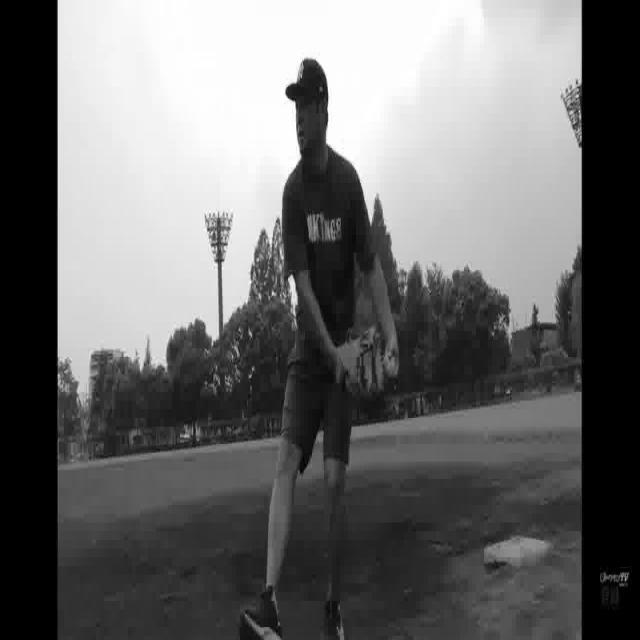base: (480, 538, 556, 578)
baseball: (386, 353, 398, 378)
baseball_glove: (334, 322, 388, 396)
shoe: (237, 592, 287, 640), (319, 598, 345, 636)
